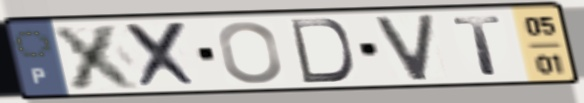D: (287, 17, 357, 85)
O: (214, 19, 285, 86)
T: (449, 13, 507, 77)
V: (371, 12, 438, 83)
X: (48, 22, 147, 91), (121, 19, 204, 91)
